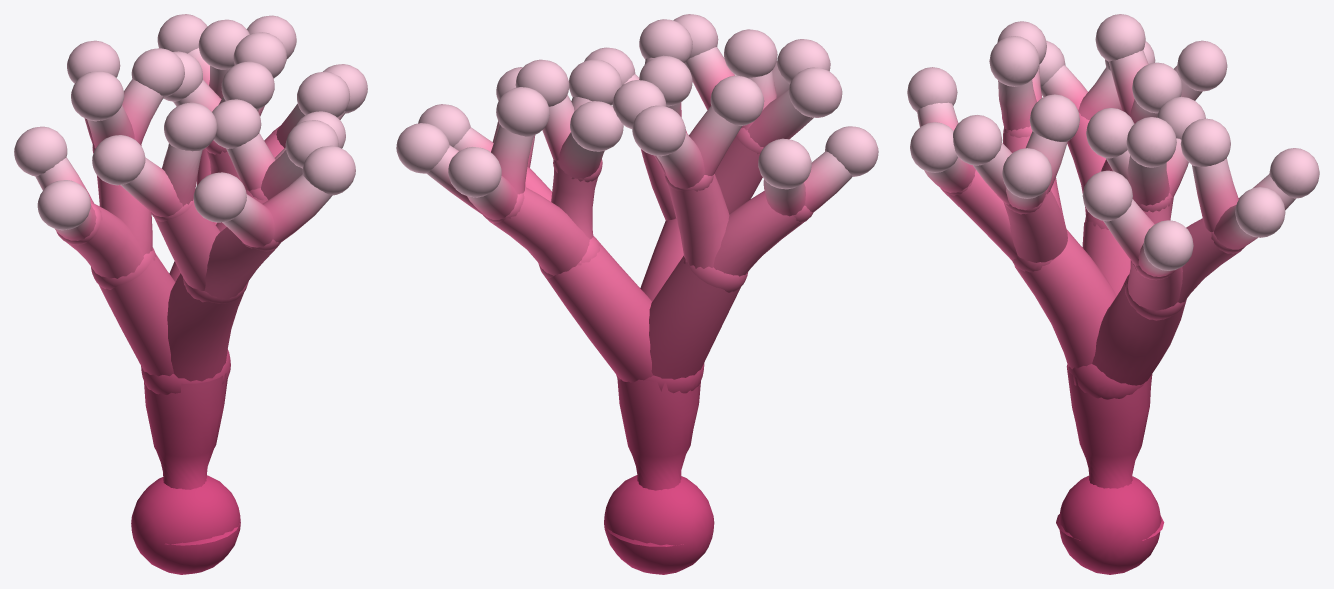
Rendered from coral_branch.glb.
The picture shows the model from 3 angles, left to right: view 1: azimuth 30°, elevation 25°; view 2: azimuth 150°, elevation 25°; view 3: azimuth 270°, elevation 25°; orthographic projection.
Visible parts, largest first — view 1: CoralBranch; view 2: CoralBranch; view 3: CoralBranch.
Boxes of the visible parts, bbox=[...] form: CoralBranch: bbox=[14, 14, 367, 574]; CoralBranch: bbox=[396, 14, 878, 574]; CoralBranch: bbox=[907, 14, 1319, 574].
Bounding box in the file's own units: 1.16 × 1.46 × 1.07.
1 material, 1 textured.
